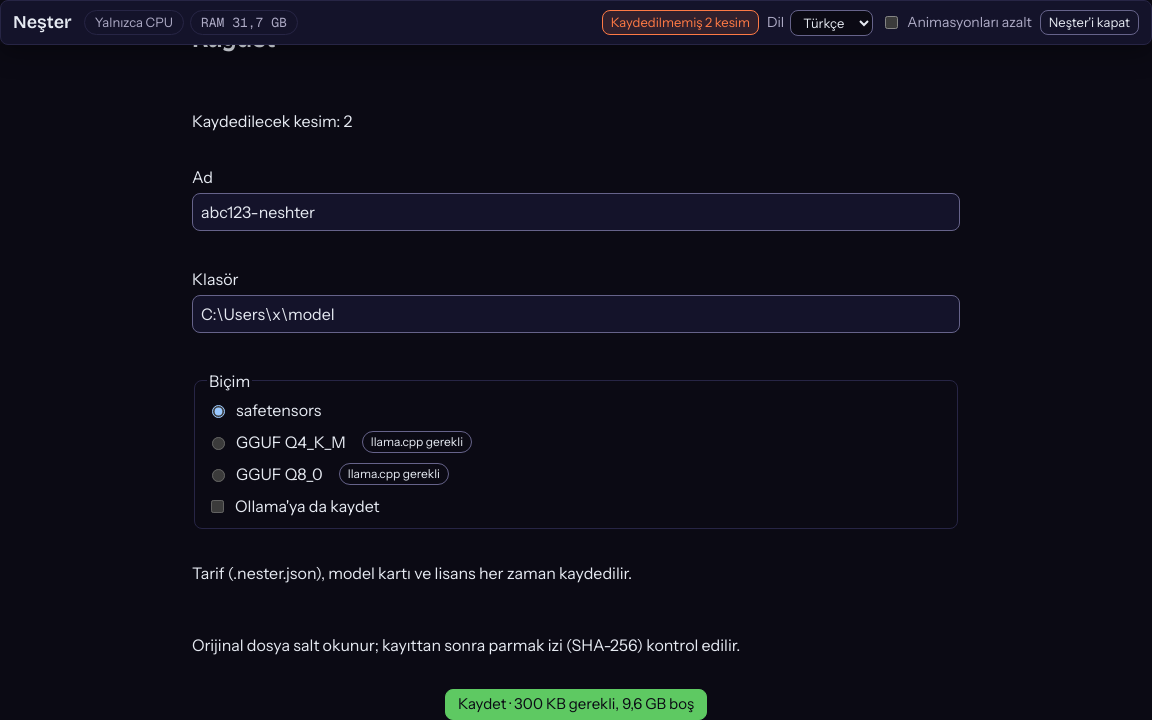
Test: export done marks basket saved and the unsaved chip disappears
The image size is (1152, 720).
(page scrolled)
Expected: the field labelled "Ad" holds "abc123-neshter", [192, 193, 960, 231]
Expected: the button "Kaydedilmemiş 2 kesim" is shown, [602, 10, 759, 35]
Click the button "Kaydet · 300 KB gerekli, 9,6 GB boş" at point(576, 705), box [445, 689, 707, 719]
(page scrolled)
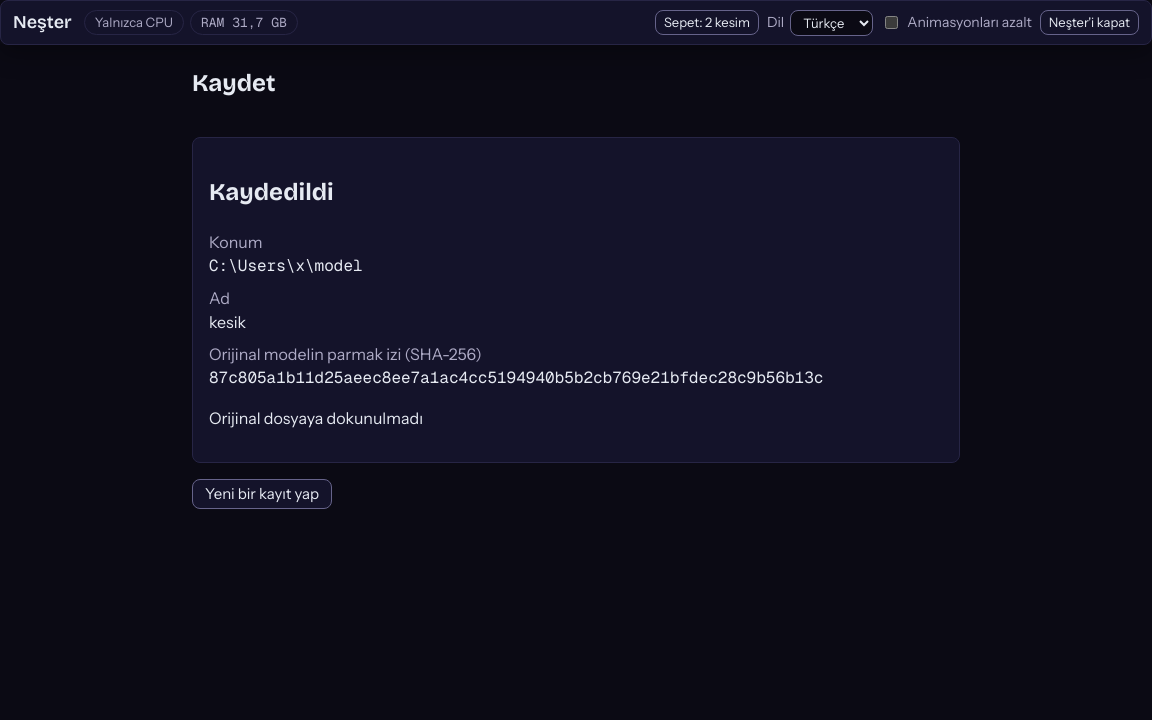
Now the heading "Kaydedildi" is shown, box [209, 178, 334, 206]
Now the button "Kaydedilmemiş 2 kesim" is gone
